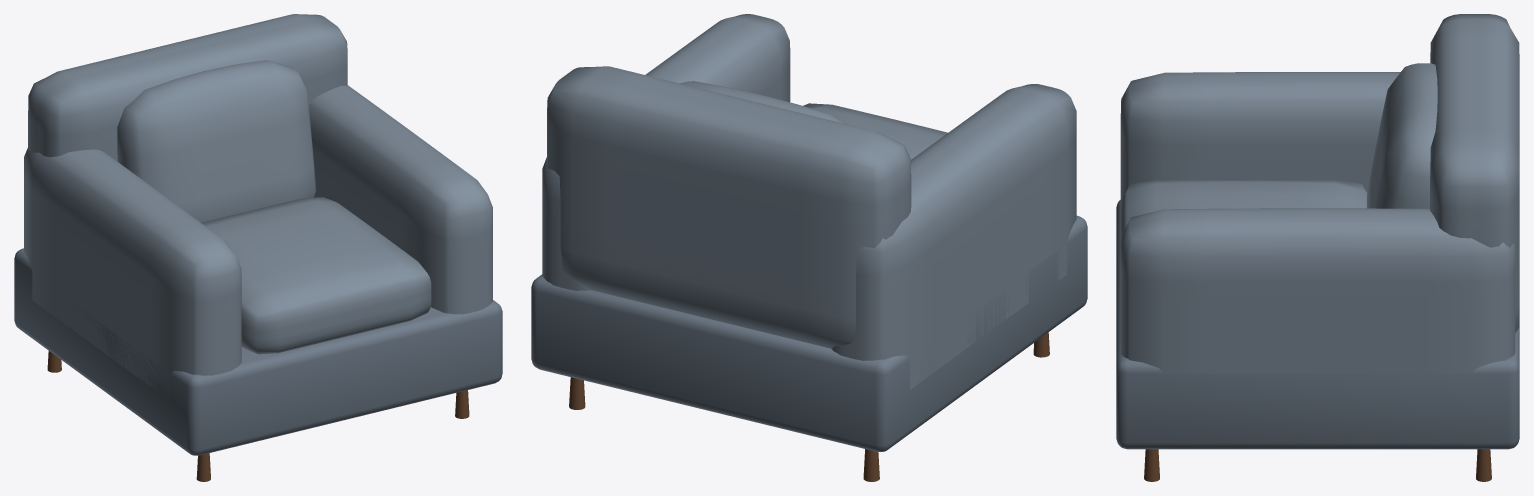
The model's file is sofa_1.glb.
3 views of the same model, side by side, from view 1: azimuth 30°, elevation 25°; view 2: azimuth 150°, elevation 25°; view 3: azimuth 270°, elevation 25° (orthographic). The views are drawn at different scales.
Visible parts, largest first — view 1: soft, box, soft.003, soft.004, soft.001, soft.002; view 2: soft.002, box, soft, soft.001, soft.004, soft.003; view 3: soft.001, box, soft, soft.002, soft.003, soft.004, leg.002, leg.003.
Part boxes in pixels (x1,y1,x2,y2): soft: [24, 147, 241, 398]; box: [14, 248, 502, 455]; soft.003: [117, 60, 316, 222]; soft.004: [201, 197, 431, 354]; soft.001: [309, 85, 492, 314]; soft.002: [28, 14, 347, 161]; soft.002: [547, 66, 911, 348]; box: [531, 215, 1087, 451]; soft: [831, 84, 1076, 389]; soft.001: [542, 14, 790, 290]; soft.004: [803, 103, 947, 159]; soft.003: [680, 81, 847, 124]; soft.001: [1120, 208, 1515, 373]; box: [1116, 200, 1519, 449]; soft: [1120, 72, 1400, 204]; soft.002: [1430, 14, 1519, 332]; soft.003: [1367, 63, 1437, 208]; soft.004: [1120, 179, 1367, 249]; leg.002: [1144, 449, 1159, 481]; leg.003: [1476, 449, 1491, 481].
Bounding box in the file's own units: 90 × 80 × 90.
